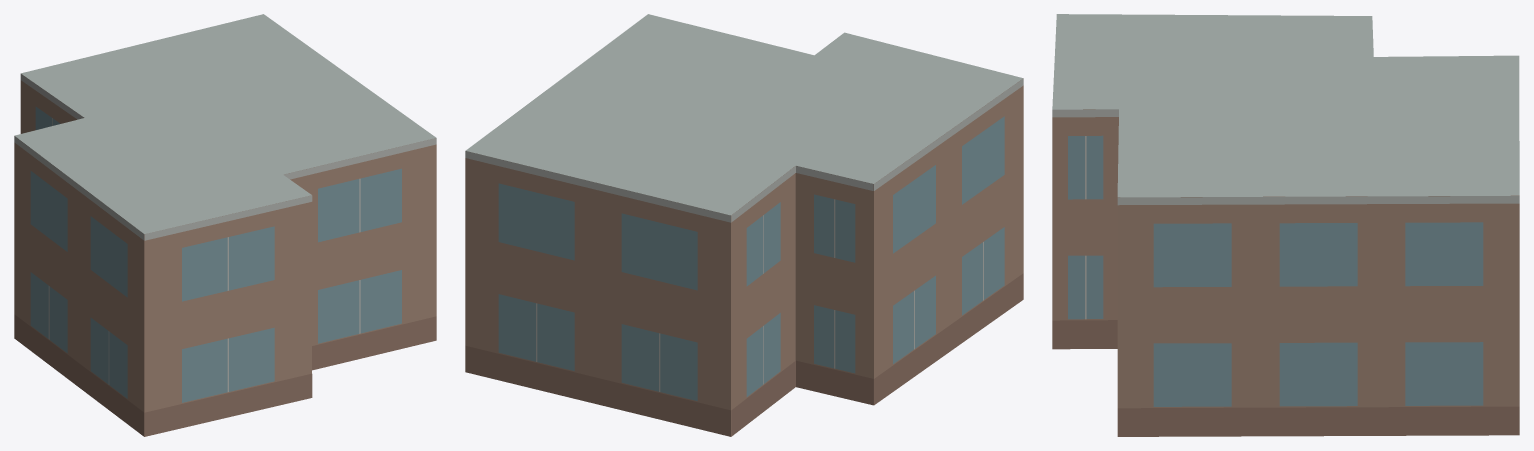
File: survey-upis-32819420.glb
The picture shows the model from 3 angles, left to right: view 1: azimuth 30°, elevation 25°; view 2: azimuth 150°, elevation 25°; view 3: azimuth 270°, elevation 25°; orthographic projection. The views are drawn at different scales.
Parts seen in each view (by area): view 1: survey-upis-32819420.tmp; view 2: survey-upis-32819420.tmp; view 3: survey-upis-32819420.tmp.
Part boxes in pixels (x1,y1,x2,y2): survey-upis-32819420.tmp: (14, 14, 436, 436); survey-upis-32819420.tmp: (465, 14, 1023, 436); survey-upis-32819420.tmp: (1052, 14, 1519, 436).
Bounding box in the file's own units: 12.32 × 7.5 × 13.28.
